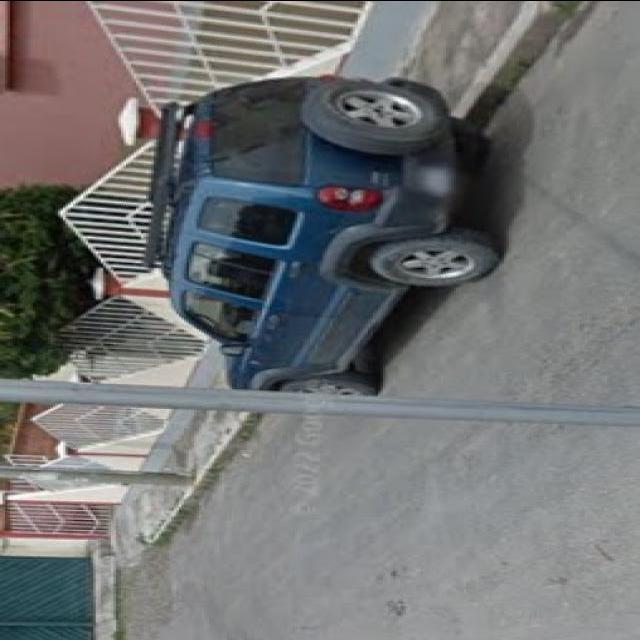car: (89, 70, 504, 388)
